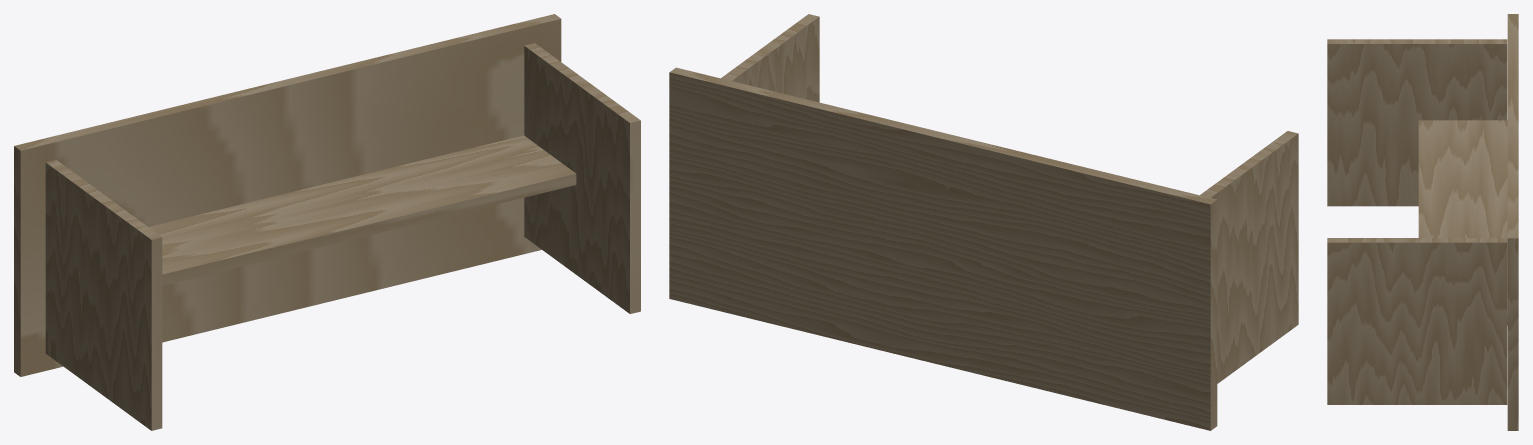
The picture shows the model from 3 angles, left to right: view 1: azimuth 30°, elevation 25°; view 2: azimuth 150°, elevation 25°; view 3: azimuth 270°, elevation 25°; orthographic projection. The views are drawn at different scales.
Visible parts, largest first — view 1: Cube.001; view 2: Cube.001; view 3: Cube.001.
Part boxes in pixels (x1=…): Cube.001: x1=14, y1=14, x2=640, y2=430; Cube.001: x1=669, y1=14, x2=1298, y2=430; Cube.001: x1=1327, y1=14, x2=1518, y2=430.
Bounding box in the file's own units: 200 × 80 × 72.13.
